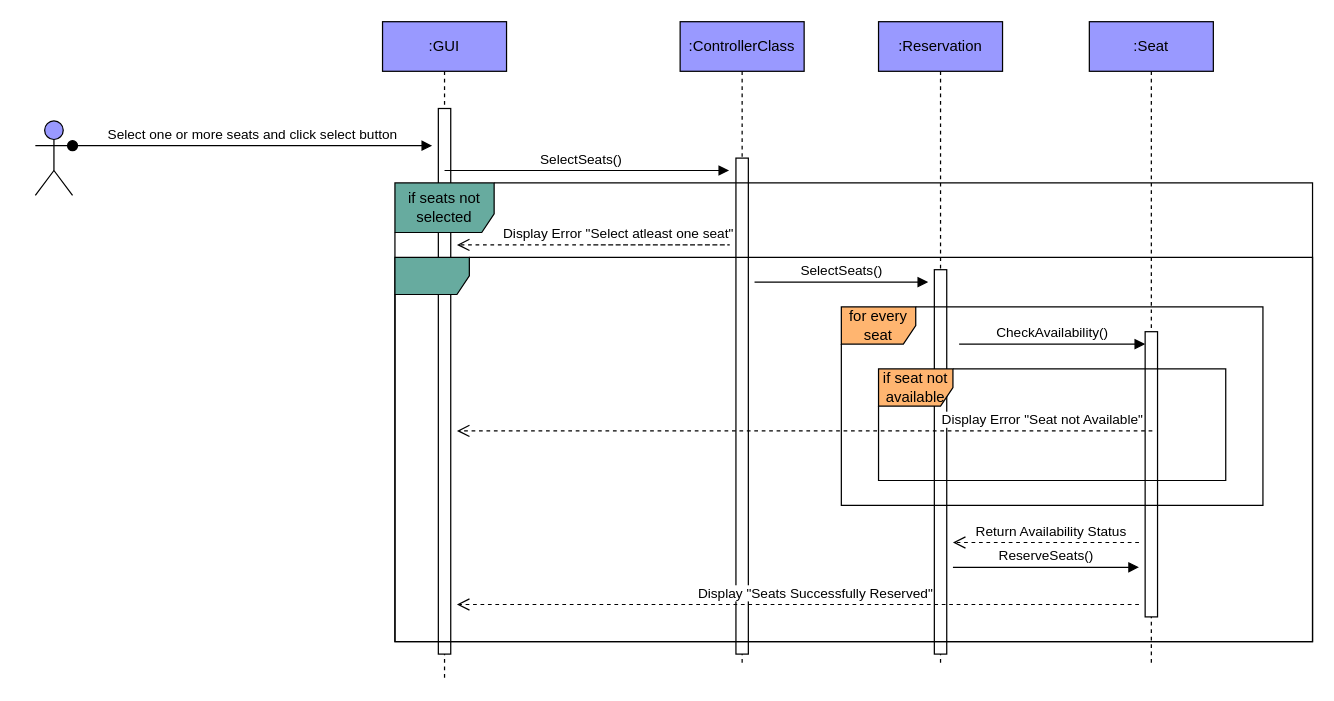
Image size: 1334x701. Some labels were removed from this diagram. Here are the shapes that lost their labels. From the top down, the centre of each, then its label:
At point (53, 157): "Customer".
At point (853, 449): "else".
